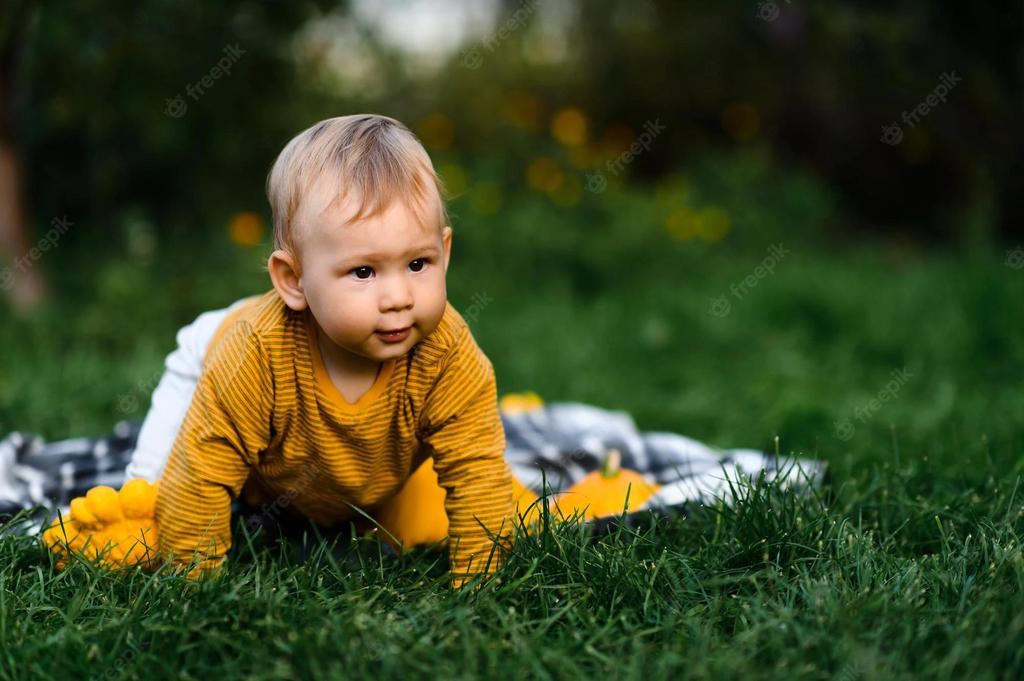child: (105, 100, 530, 604)
